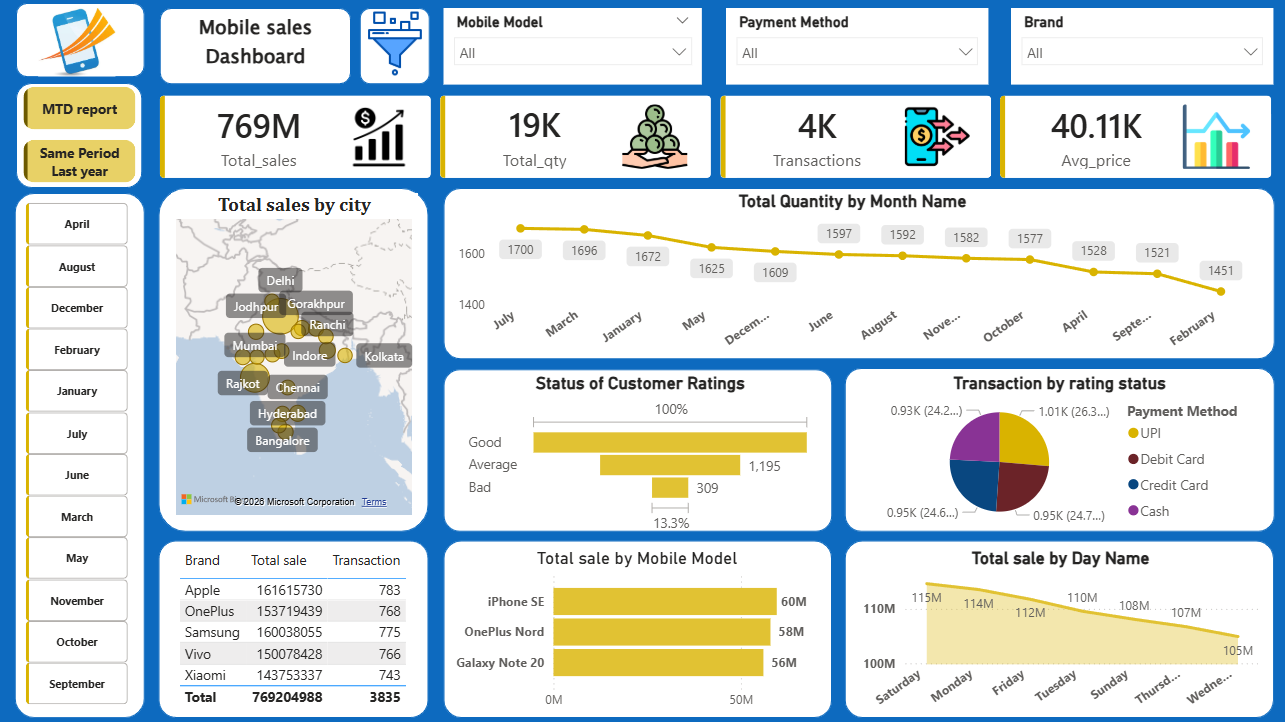

Layout of this report page (visuals, bound fields, positions):
{"tool":"powerbi","page":{"name":"Dashboard","canvas":[1280,720],"ordinal":0},"visuals":[{"type":"shape","box":[159.5,191.4,265,337.4],"z":0},{"type":"shape","box":[439.3,191.4,816,168.1],"z":1000},{"type":"cardVisual","fields":{"Data":["Sales.Total_sales","Sales.Total_qty","Sales.Transactions","Sales.Avg_price"]},"box":[160.7,100.6,1093.3,82.2],"z":2000},{"type":"shape","box":[18.4,191.4,127.6,520.2],"z":3000},{"type":"advancedSlicerVisual","fields":{"Values":["Custom calender.Month Name"]},"box":[24.5,201.2,110.4,512.9],"z":4000},{"type":"map","title":"Total sales by city","fields":{"Category":["Sales.City"],"Size":["Sum(Sales.Total sale)"]},"box":[171.8,196.3,241.7,320.2],"z":5000},{"type":"slicer","fields":{"Values":["Sales.Mobile Model"]},"box":[438.8,15,253.8,75],"z":6000},{"type":"slicer","fields":{"Values":["Sales.Payment Method"]},"box":[716.2,15,257.5,75],"z":7000},{"type":"slicer","fields":{"Values":["Sales.Brand"]},"box":[996.2,15,257.5,75],"z":8000},{"type":"shape","box":[439.3,369.3,381.6,159.5],"z":9000},{"type":"shape","box":[833.1,368.1,422.1,160.7],"z":10000},{"type":"pieChart","title":"Transaction by rating status","fields":{"Category":["Sales.Payment Method"],"Y":["CountNonNull(Sales.Payment Method)"]},"box":[855.2,373,377.9,155.8],"z":11000},{"type":"funnel","title":"Status of Customer Ratings ","fields":{"Category":["Sales.Rating status"],"Y":["CountNonNull(Sales.Customer Ratings)"]},"box":[458.3,373.2,347.2,161.9],"z":12000},{"type":"shape","box":[439.1,537.9,381.5,174.3],"z":13000},{"type":"shape","box":[832.9,537.9,421.3,174.3],"z":14000},{"type":"clusteredBarChart","title":" Total sale by Mobile Model","fields":{"Category":["Sales.Mobile Model"],"Y":["Sum(Sales.Total sale)"]},"box":[446,544.8,367.8,167.4],"z":15000},{"type":"areaChart","title":"Total sale by Day Name","fields":{"Category":["Custom calender.Day Name"],"Y":["Sum(Sales.Total sale)"]},"box":[845.3,544.8,399.3,167.4],"z":16000},{"type":"tableEx","fields":{"Values":["Sales.Brand","Sum(Sales.Total sale)","CountNonNull(Sales.Transaction ID)"]},"box":[160.7,537.4,265,174.2],"z":17000},{"type":"shape","box":[160.5,8.2,188,81],"z":18000},{"type":"shape","box":[356.8,8.2,68.6,79.6],"z":19000},{"type":"shape","box":[18.4,84.7,123.9,98.2],"z":20000},{"type":"shape","box":[19.2,9.6,126.2,72.7],"z":21000},{"type":"textbox","box":[160.5,15.1,188,70],"z":22000},{"type":"lineChart","title":"Total Quantity by Month Name","fields":{"Category":["Custom calender.Month Name"],"Y":["Sales.Total_qty"]},"box":[448.7,193.5,783.5,166],"z":23000},{"type":"actionButton","title":"MTD Report","box":[31.9,100.6,99.4,23.3],"z":24000},{"type":"image","box":[344.8,17.2,93.3,65],"z":25000},{"type":"image","box":[28.2,14.7,103.1,67.5],"z":26000},{"type":"actionButton","title":"Same Period Last Year","box":[31.9,132.5,99.4,38],"z":27000}]}

Visuals, with their boxes in screenshot pixels (x1, y1, x2, y2), scaled from the page's 1280x720 canvas onto the 1285x722 screenshot:
shape: (left=160, top=192, right=426, bottom=530)
shape: (left=441, top=192, right=1260, bottom=360)
cardVisual - Sales.Total_sales x Sales.Total_qty: (left=161, top=101, right=1259, bottom=183)
shape: (left=18, top=192, right=147, bottom=714)
advancedSlicerVisual - Custom calender.Month Name: (left=25, top=202, right=135, bottom=716)
"Total sales by city" map: (left=172, top=197, right=415, bottom=518)
slicer - Sales.Mobile Model: (left=441, top=15, right=695, bottom=90)
slicer - Sales.Payment Method: (left=719, top=15, right=978, bottom=90)
slicer - Sales.Brand: (left=1000, top=15, right=1259, bottom=90)
shape: (left=441, top=370, right=824, bottom=530)
shape: (left=836, top=369, right=1260, bottom=530)
"Transaction by rating status" pieChart: (left=859, top=374, right=1238, bottom=530)
"Status of Customer Ratings " funnel: (left=460, top=374, right=809, bottom=537)
shape: (left=441, top=539, right=824, bottom=714)
shape: (left=836, top=539, right=1259, bottom=714)
" Total sale by Mobile Model" clusteredBarChart: (left=448, top=546, right=817, bottom=714)
"Total sale by Day Name" areaChart: (left=849, top=546, right=1249, bottom=714)
tableEx - Sales.Brand x Sum(Sales.Total sale): (left=161, top=539, right=427, bottom=714)
shape: (left=161, top=8, right=350, bottom=89)
shape: (left=358, top=8, right=427, bottom=88)
shape: (left=18, top=85, right=143, bottom=183)
shape: (left=19, top=10, right=146, bottom=83)
textbox: (left=161, top=15, right=350, bottom=85)
"Total Quantity by Month Name" lineChart: (left=450, top=194, right=1237, bottom=360)
"MTD Report" actionButton: (left=32, top=101, right=132, bottom=124)
image: (left=346, top=17, right=440, bottom=82)
image: (left=28, top=15, right=132, bottom=82)
"Same Period Last Year" actionButton: (left=32, top=133, right=132, bottom=171)
